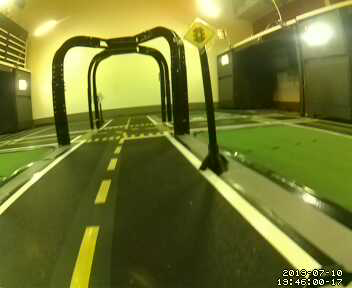Traffic light sign: (185, 18, 219, 51)
